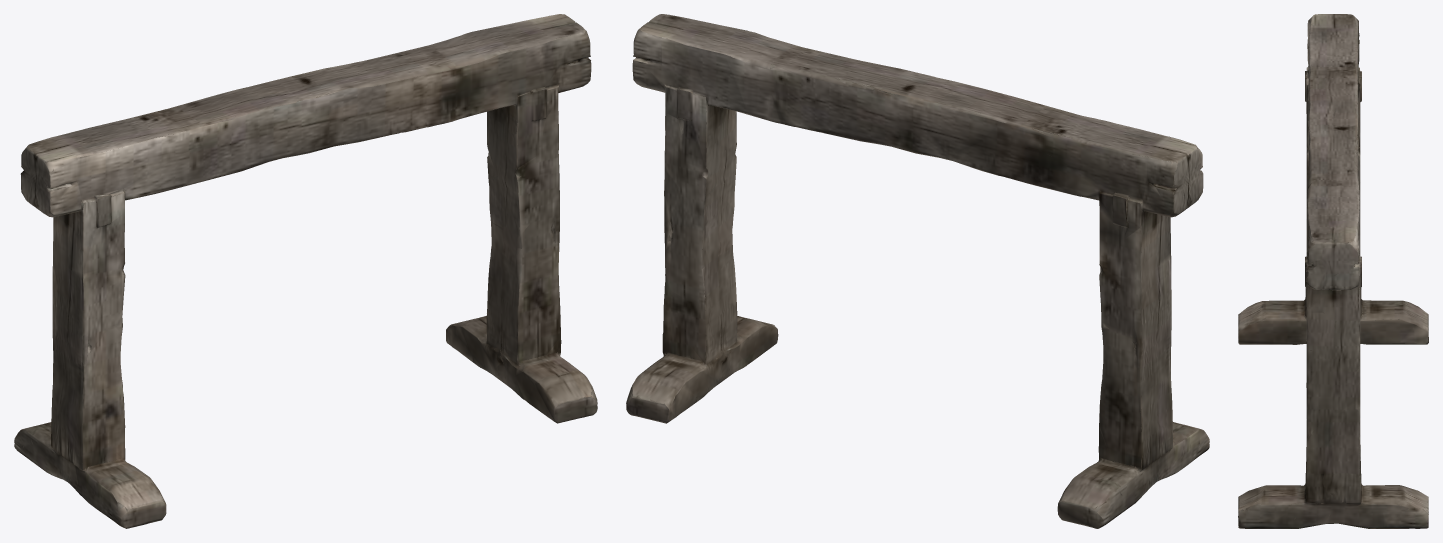
File: duck-beam-frame.glb
The picture shows the model from 3 angles, left to right: view 1: azimuth 30°, elevation 25°; view 2: azimuth 150°, elevation 25°; view 3: azimuth 270°, elevation 25°; orthographic projection. The views are drawn at different scales.
Visible parts, largest first — view 1: Mesh_0; view 2: Mesh_0; view 3: Mesh_0.
Part boxes in pixels (x1=…): Mesh_0: x1=14, y1=14, x2=597, y2=528; Mesh_0: x1=626, y1=14, x2=1209, y2=528; Mesh_0: x1=1238, y1=14, x2=1428, y2=528.
Size of the model in its own units: 1.9 by 1.17 by 0.6643.
1 material, 1 textured.
